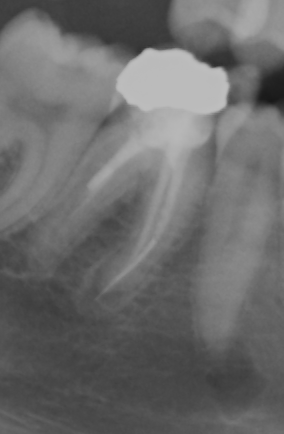fracture: (89, 241, 153, 301)
